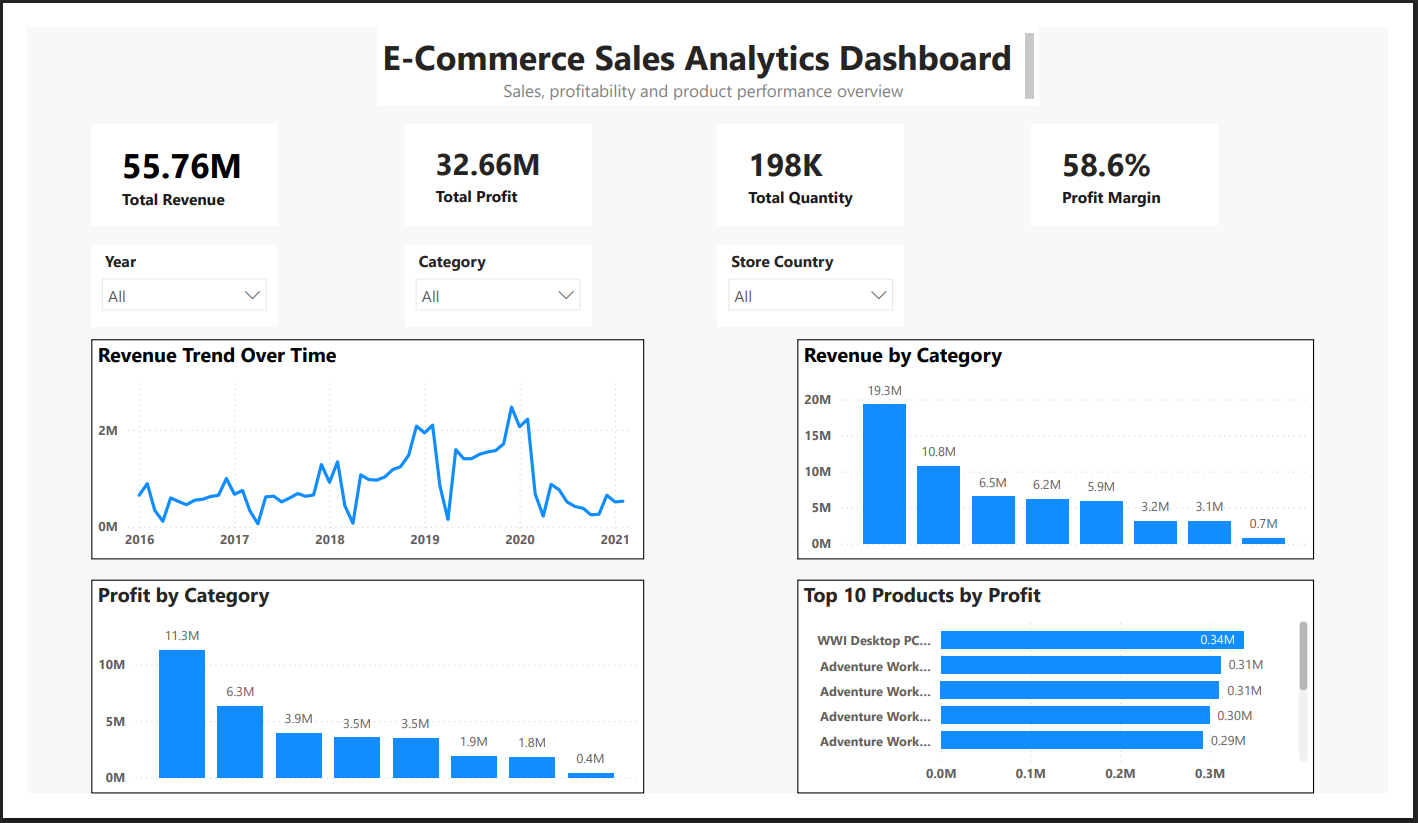

The dashboard page shown, as its layout file describes it:
{"tool":"powerbi","page":{"name":"Page 1","canvas":[1280,720],"ordinal":0},"visuals":[{"type":"cardVisual","fields":{"Data":["ecommerce_sales_analysis.Total Revenue"]},"box":[60,91.2,175,95],"z":0},{"type":"cardVisual","fields":{"Data":["ecommerce_sales_analysis.Total Profit"]},"box":[354.6,91.2,175,95],"z":1000},{"type":"cardVisual","fields":{"Data":["ecommerce_sales_analysis.Total Quantity"]},"box":[649.2,91.2,175,95],"z":2000},{"type":"cardVisual","fields":{"Data":["ecommerce_sales_analysis.Profit Margin"]},"box":[943.8,91.2,175,95],"z":3000},{"type":"lineChart","title":"Revenue Trend Over Time","fields":{"Y":["Sum(ecommerce_sales_analysis.Revenue USD)"],"Category":["ecommerce_sales_analysis.Order Date.Variation.Date Hierarchy.Year","ecommerce_sales_analysis.Order Date.Variation.Date Hierarchy.Month"]},"box":[60,292.5,520,207.5],"z":4000},{"type":"clusteredColumnChart","title":"Revenue by Category","fields":{"Category":["ecommerce_sales_analysis.Category"],"Y":["Sum(ecommerce_sales_analysis.Revenue USD)"]},"box":[723.8,292.5,486.2,207.5],"z":5000},{"type":"clusteredColumnChart","title":"Profit by Category","fields":{"Category":["ecommerce_sales_analysis.Category"],"Y":["Sum(ecommerce_sales_analysis.Profit USD)"]},"box":[60,518.8,520,201.2],"z":6000},{"type":"clusteredBarChart","title":"Top 10 Products by Profit","fields":{"Category":["ecommerce_sales_analysis.Product Name"],"Y":["Sum(ecommerce_sales_analysis.Profit USD)"]},"box":[723.8,518.8,486.2,201.2],"z":7000},{"type":"slicer","fields":{"Values":["ecommerce_sales_analysis.Order Date.Variation.Date Hierarchy.Year"]},"box":[60,203.8,175,77.5],"z":7001},{"type":"slicer","fields":{"Values":["ecommerce_sales_analysis.Category"]},"box":[355,203.8,175,77.5],"z":7002},{"type":"slicer","fields":{"Values":["ecommerce_sales_analysis.Store Country"]},"box":[648.8,203.8,175,77.5],"z":7003},{"type":"textbox","box":[328.8,0,622.5,72.5],"z":7004}]}

Visuals, with their boxes on the page's 1280x720 design canvas (x1, y1, x2, y2). These are canvas units, not pixel positions in the 1418x823 screenshot, which may show the page scaled, cropped or inside an application window:
cardVisual - ecommerce_sales_analysis.Total Revenue: (60,91,235,186)
cardVisual - ecommerce_sales_analysis.Total Profit: (355,91,530,186)
cardVisual - ecommerce_sales_analysis.Total Quantity: (649,91,824,186)
cardVisual - ecommerce_sales_analysis.Profit Margin: (944,91,1119,186)
"Revenue Trend Over Time" lineChart: (60,292,580,500)
"Revenue by Category" clusteredColumnChart: (724,292,1210,500)
"Profit by Category" clusteredColumnChart: (60,519,580,720)
"Top 10 Products by Profit" clusteredBarChart: (724,519,1210,720)
slicer - ecommerce_sales_analysis.Order Date.Variation.Date Hierarchy.Year: (60,204,235,281)
slicer - ecommerce_sales_analysis.Category: (355,204,530,281)
slicer - ecommerce_sales_analysis.Store Country: (649,204,824,281)
textbox: (329,0,951,72)
